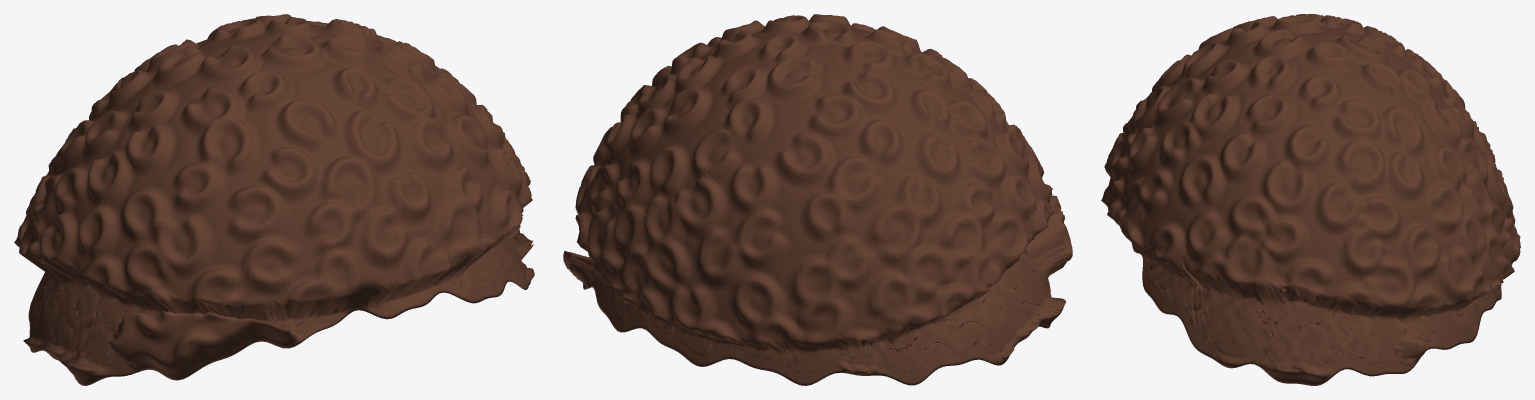
Rendered from Masculine-afro-headband251-hair.glb.
3 renders of one model, left to right at view 1: azimuth 30°, elevation 25°; view 2: azimuth 150°, elevation 25°; view 3: azimuth 270°, elevation 25°, orthographic. The views are drawn at different scales.
Parts seen in each view (by area): view 1: 226 hair / Hair / sculpted afro251.001; view 2: 226 hair / Hair / sculpted afro251.001; view 3: 226 hair / Hair / sculpted afro251.001.
Part boxes in pixels (left/top/right/bottom): 226 hair / Hair / sculpted afro251.001: left=14, top=14, right=534, bottom=385; 226 hair / Hair / sculpted afro251.001: left=563, top=14, right=1072, bottom=385; 226 hair / Hair / sculpted afro251.001: left=1101, top=14, right=1520, bottom=385.
Bounding box in the file's own units: 0.9972 × 0.5528 × 0.8277.
